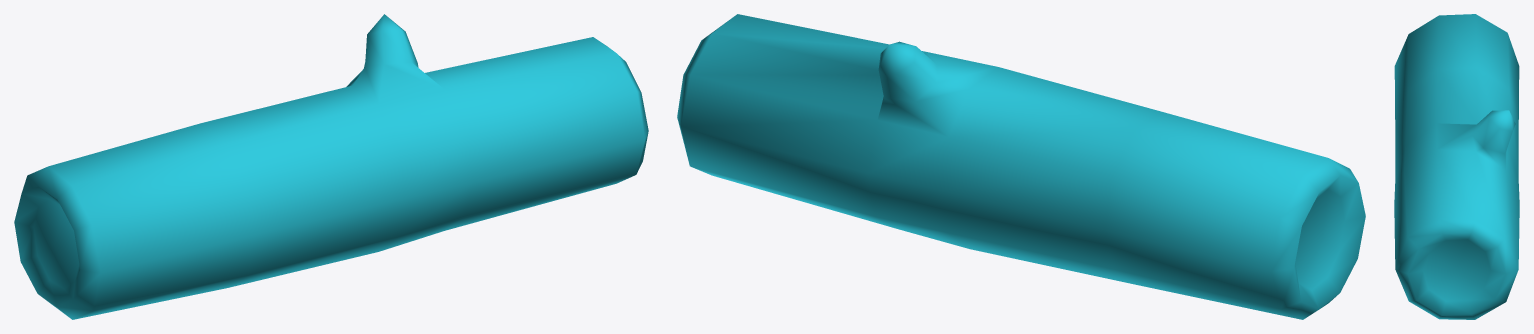
File: Holo_Log.glb
3 renders of one model, left to right at view 1: azimuth 30°, elevation 25°; view 2: azimuth 150°, elevation 25°; view 3: azimuth 270°, elevation 25°, orthographic. The views are drawn at different scales.
Parts seen in each view (by area): view 1: Holo_Log_0; view 2: Holo_Log_0; view 3: Holo_Log_0.
Boxes of the visible parts, box(x1,y1,x2,y2) form: Holo_Log_0: box(14, 14, 648, 319); Holo_Log_0: box(677, 14, 1365, 319); Holo_Log_0: box(1394, 14, 1519, 319).
Bounding box in the file's own units: 2.41 × 0.7709 × 0.5989.
